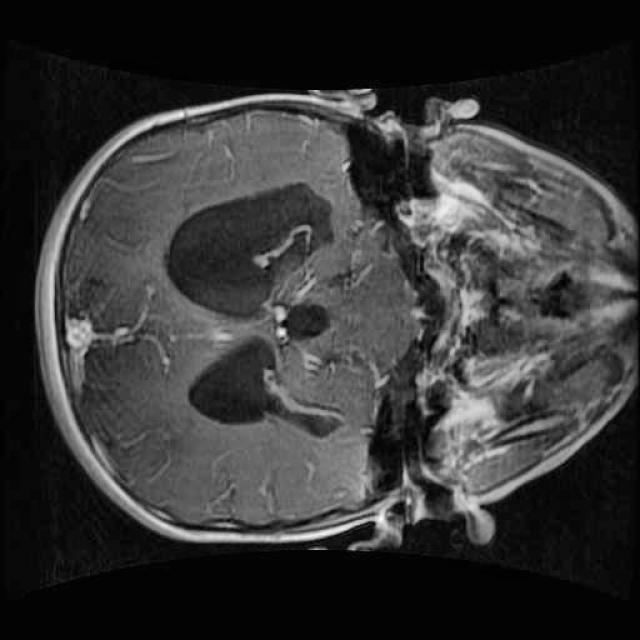Tumor: (226, 172, 350, 306)
